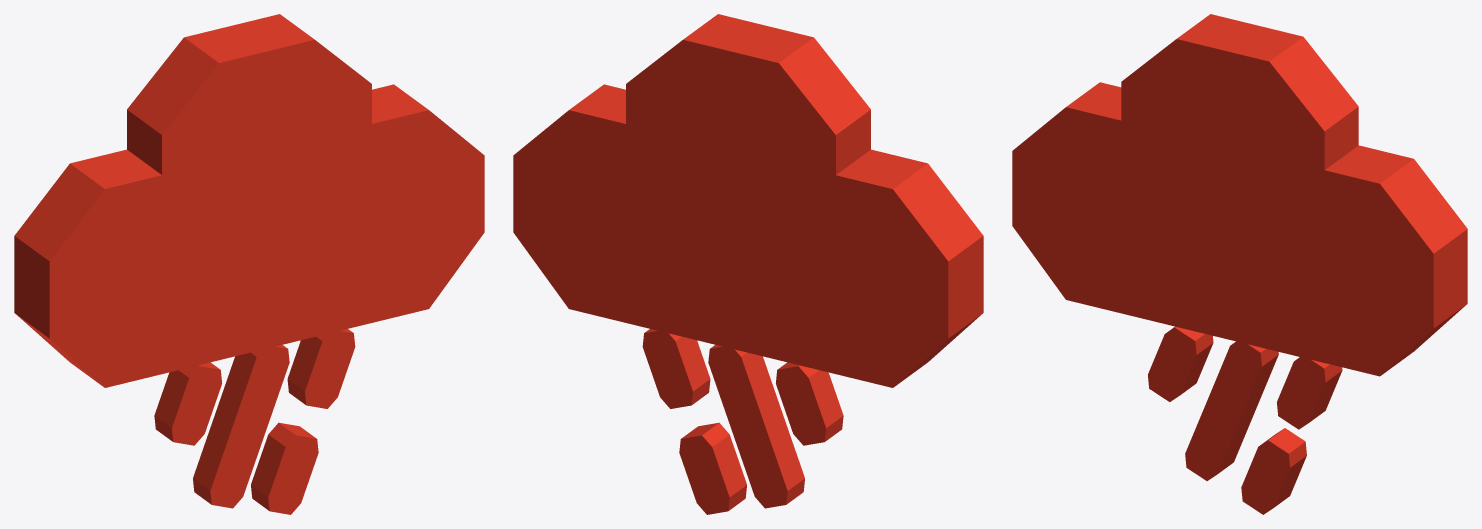
File: Icon_Cloud_02.fbx
3 views of the same model, side by side, from view 1: azimuth 30°, elevation 25°; view 2: azimuth 150°, elevation 25°; view 3: azimuth 330°, elevation 25° (orthographic). The views are drawn at different scales.
Parts seen in each view (by area): view 1: Icon_Cloud_02; view 2: Icon_Cloud_02; view 3: Icon_Cloud_02.
Part boxes in pixels (left/top/right/bottom): Icon_Cloud_02: left=14, top=14, right=484, bottom=514; Icon_Cloud_02: left=513, top=14, right=983, bottom=514; Icon_Cloud_02: left=1012, top=14, right=1467, bottom=514.
Size of the model in its own units: 86.11 by 90.45 by 12.06.
